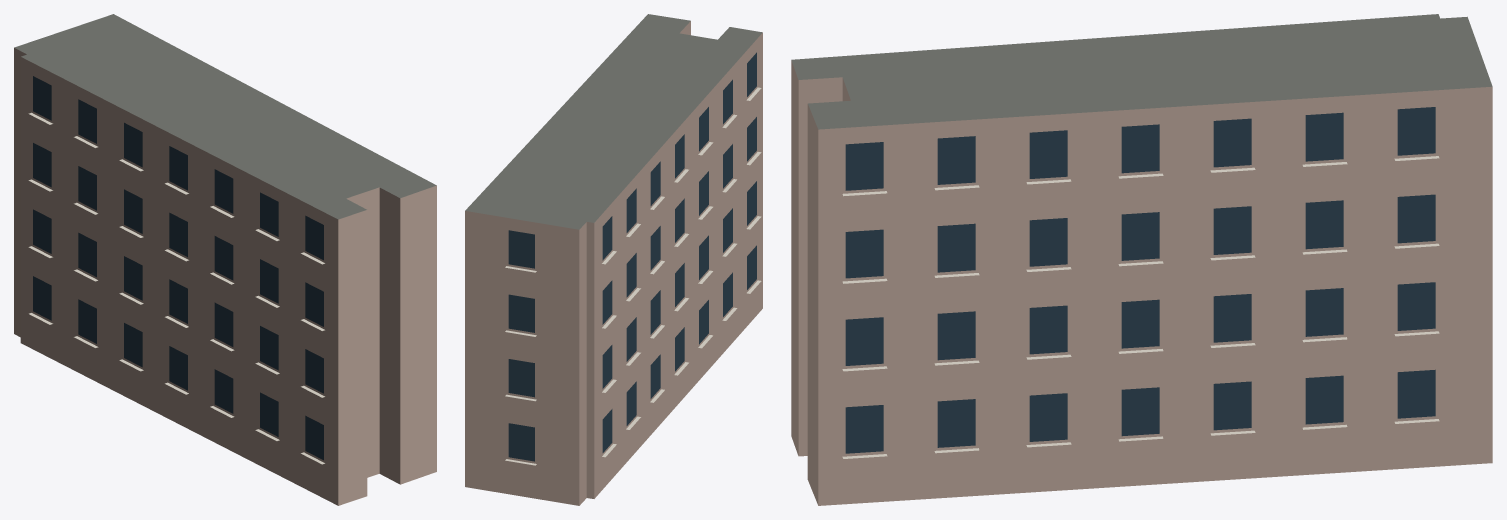
3 views of the same model, side by side, from view 1: azimuth 30°, elevation 25°; view 2: azimuth 150°, elevation 25°; view 3: azimuth 270°, elevation 25° (orthographic). The views are drawn at different scales.
Visible parts, largest first — view 1: Footprint 0, Inferred window bays, Window sills; view 2: Footprint 0, Inferred window bays, Window sills; view 3: Footprint 0, Inferred window bays, Window sills.
Part boxes in pixels (x1,y1,x2,y2): Footprint 0: (14, 14, 436, 505); Inferred window bays: (33, 76, 323, 460); Window sills: (28, 112, 324, 464); Footprint 0: (465, 14, 762, 505); Inferred window bays: (508, 52, 756, 461); Window sills: (505, 87, 761, 465); Footprint 0: (791, 14, 1492, 505); Inferred window bays: (845, 107, 1435, 453); Window sills: (842, 156, 1439, 458).
Bounding box in the file's own units: 9.01 × 13.36 × 22.56.
